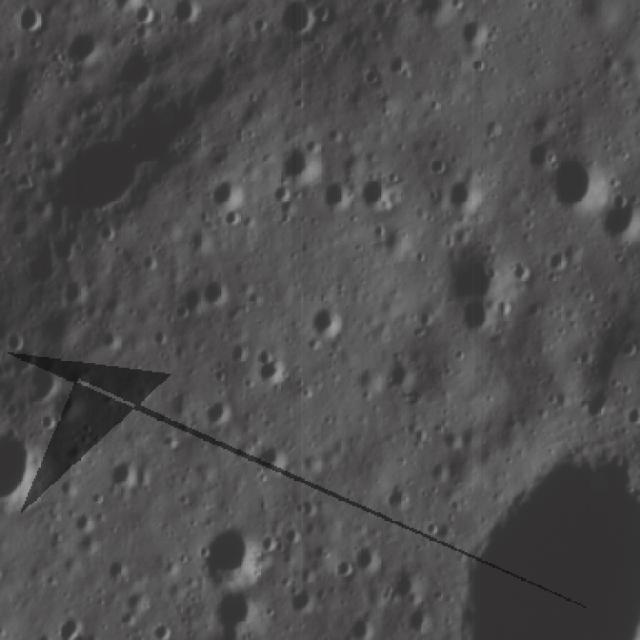crater: (26, 81, 191, 234), (429, 231, 509, 317), (200, 521, 266, 587), (551, 150, 604, 216), (200, 586, 266, 639), (53, 19, 110, 78), (427, 168, 484, 221), (105, 448, 153, 498), (200, 262, 243, 316), (300, 294, 346, 344), (383, 345, 425, 398), (208, 174, 254, 221), (254, 434, 300, 480), (361, 168, 401, 218), (268, 5, 322, 41), (251, 345, 292, 392), (199, 386, 236, 436), (349, 529, 391, 573), (451, 13, 495, 52), (44, 385, 82, 430), (58, 268, 94, 310), (100, 548, 138, 586), (164, 1, 207, 34), (286, 138, 316, 185), (320, 182, 358, 216), (68, 500, 100, 538), (99, 325, 128, 358), (124, 5, 156, 32), (122, 590, 150, 618)
